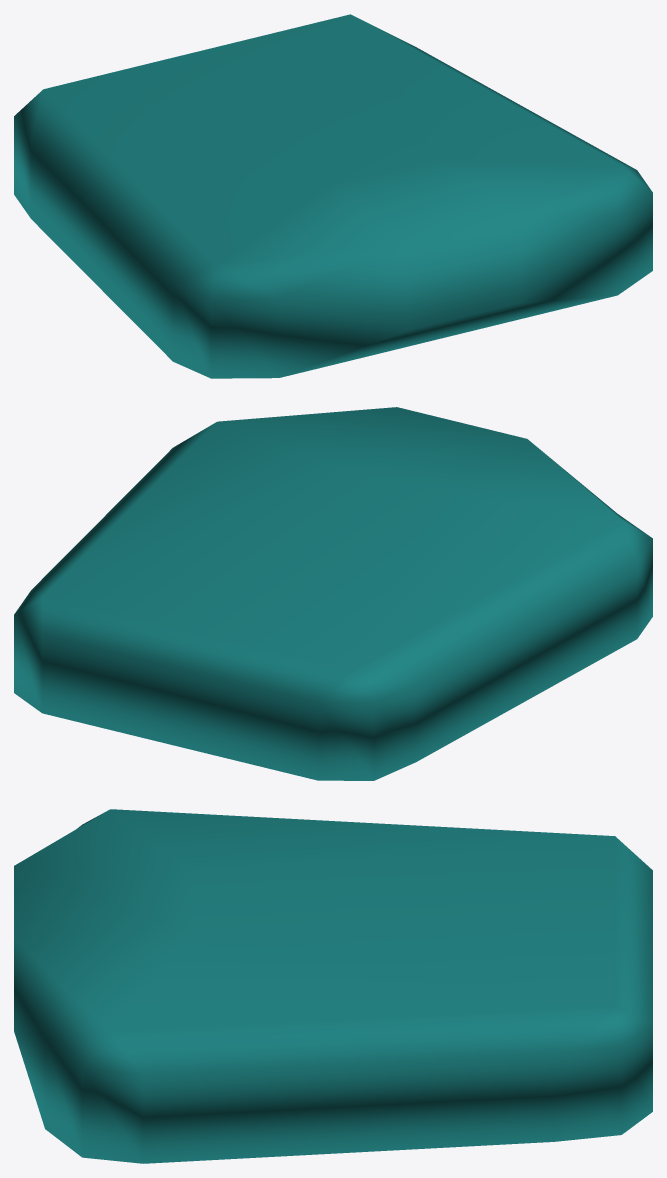
Rendered from weigh_scales_collider.fbx.
3 renders of one model, top to bottom at view 1: azimuth 30°, elevation 25°; view 2: azimuth 150°, elevation 25°; view 3: azimuth 270°, elevation 25°, orthographic. The views are drawn at different scales.
Visible parts, largest first — view 1: weigh_scales_collider; view 2: weigh_scales_collider; view 3: weigh_scales_collider.
Boxes of the visible parts, x1,y1,x2,y2 form: weigh_scales_collider: [14, 14, 652, 378]; weigh_scales_collider: [14, 407, 652, 780]; weigh_scales_collider: [14, 809, 652, 1163].
Size of the model in its own units: 33.62 by 8.15 by 35.36.
